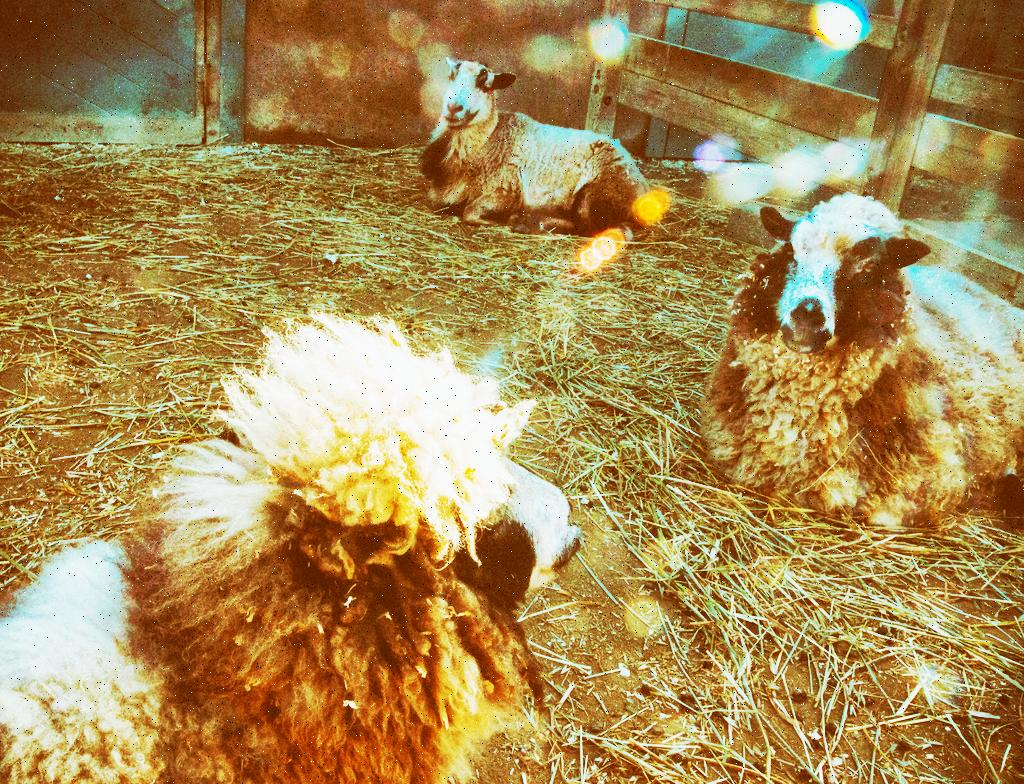Sheep: (0, 310, 587, 784), (696, 190, 1024, 532), (409, 61, 659, 231)
